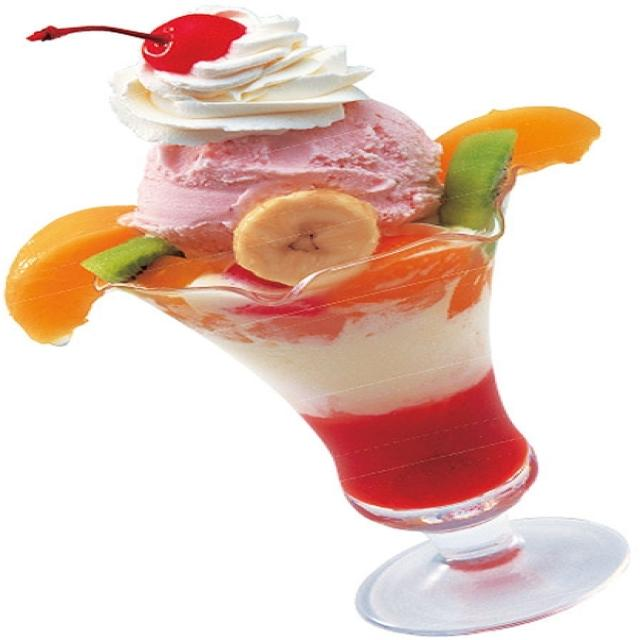蛋糕甜品: (9, 13, 625, 631)
